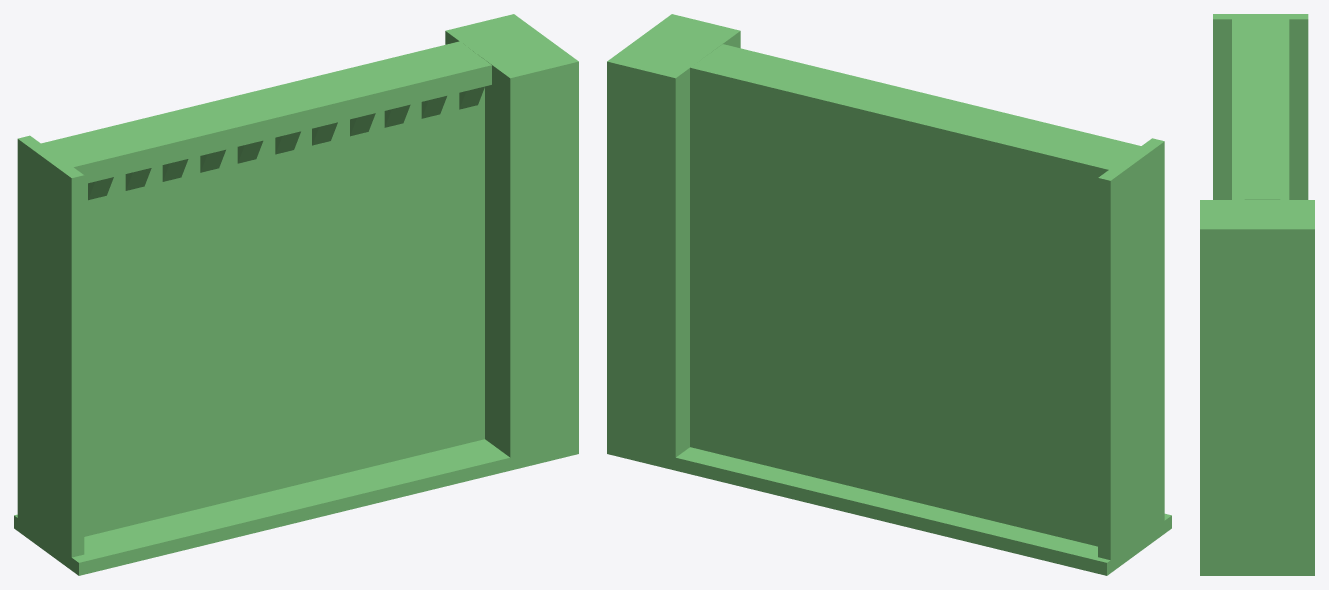
Rendered from Bld3_Wall_Mid_A.fbx.
The picture shows the model from 3 angles, left to right: view 1: azimuth 30°, elevation 25°; view 2: azimuth 150°, elevation 25°; view 3: azimuth 270°, elevation 25°; orthographic projection. The views are drawn at different scales.
Parts seen in each view (by area): view 1: Bld3_Wall_Mid_A; view 2: Bld3_Wall_Mid_A; view 3: Bld3_Wall_Mid_A.
Part boxes in pixels (left/top/right/bottom): Bld3_Wall_Mid_A: left=14, top=14, right=578, bottom=575; Bld3_Wall_Mid_A: left=607, top=14, right=1171, bottom=575; Bld3_Wall_Mid_A: left=1200, top=14, right=1314, bottom=575.
Bounding box in the file's own units: 600 × 450 × 135.
